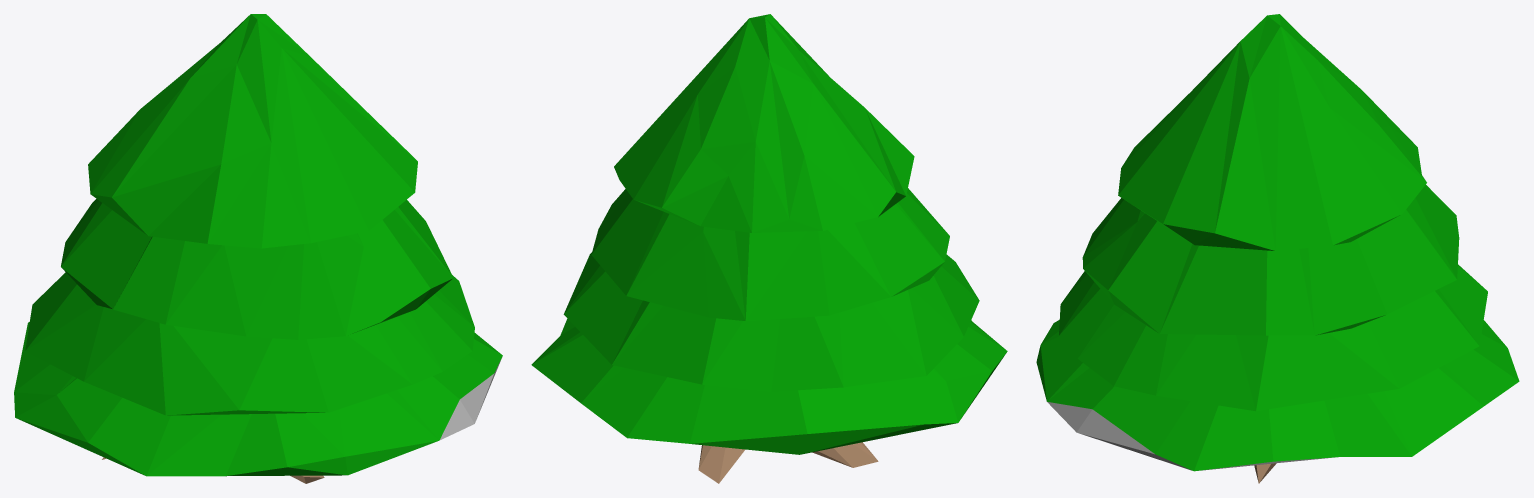
File: Nadelbaum3_Mesh_LOD.fbx
3 views of the same model, side by side, from view 1: azimuth 30°, elevation 25°; view 2: azimuth 150°, elevation 25°; view 3: azimuth 270°, elevation 25° (orthographic). The views are drawn at different scales.
Parts seen in each view (by area): view 1: Nadelbaum3_LOD0; view 2: Nadelbaum3_LOD0; view 3: Nadelbaum3_LOD0.
Part boxes in pixels (x1=…): Nadelbaum3_LOD0: x1=14, y1=14, x2=502, y2=483; Nadelbaum3_LOD0: x1=531, y1=14, x2=1007, y2=483; Nadelbaum3_LOD0: x1=1036, y1=14, x2=1519, y2=483.
Size of what is drawn, in the model's own units: 67.82 by 64.69 by 67.
